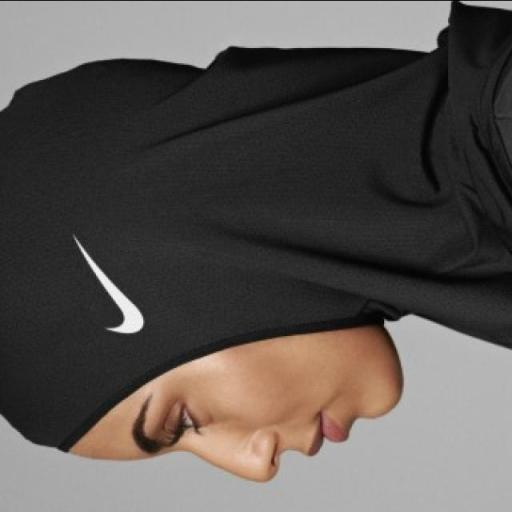Nike: (67, 221, 152, 346)
